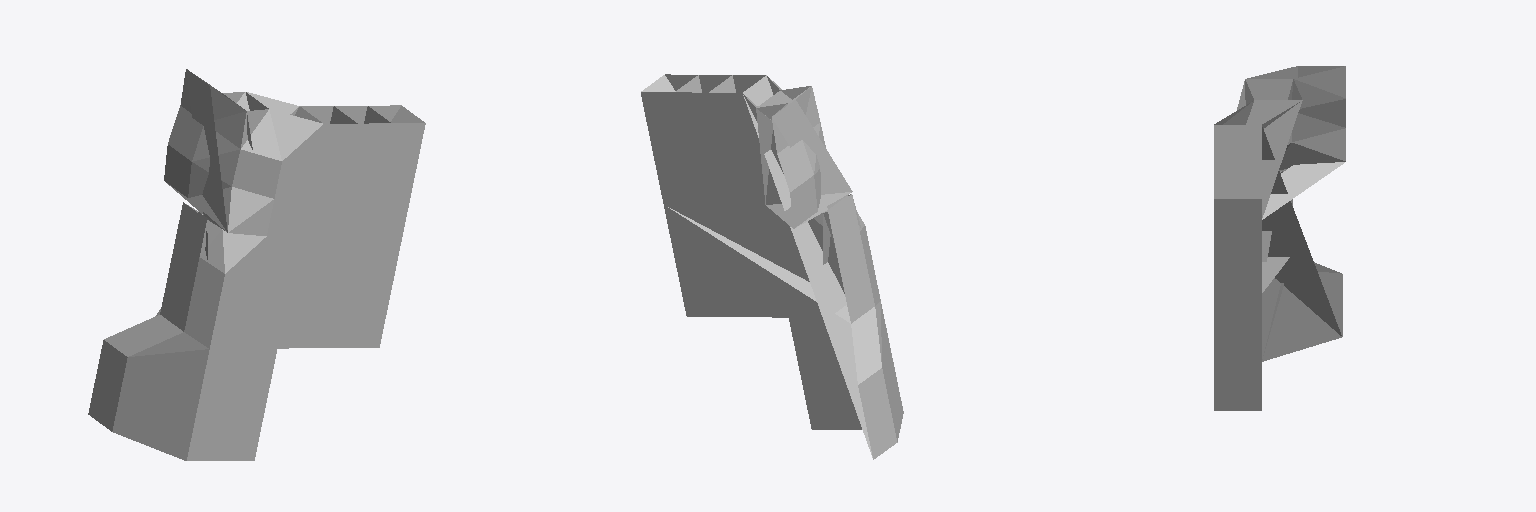
The model's file is 3d_Feralas - Twin Water 01.wlw.obj.
3 views of the same model, side by side, from view 1: azimuth 30°, elevation 25°; view 2: azimuth 150°, elevation 25°; view 3: azimuth 270°, elevation 25° (orthographic).
Size of the model in its own units: 65.32 by 78.67 by 27.51.